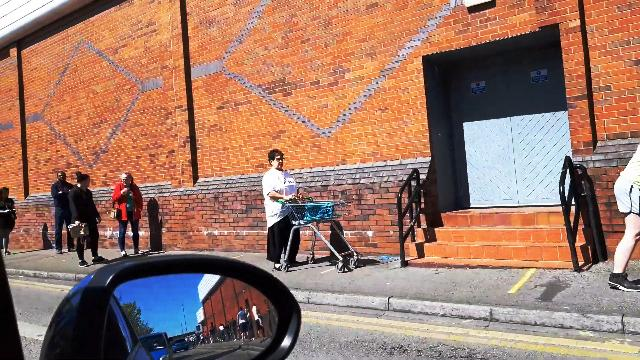berdiri: (254, 139, 308, 270)
